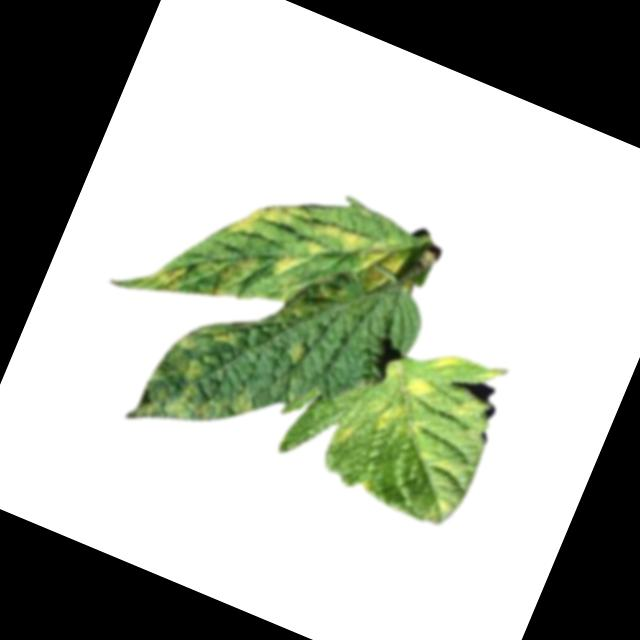Leaf_Mold: (131, 300, 288, 464), (307, 213, 412, 294), (360, 361, 444, 453), (224, 186, 295, 255), (209, 246, 260, 306), (148, 253, 193, 297), (449, 389, 493, 431), (269, 248, 308, 287), (328, 419, 362, 454), (283, 338, 317, 370)
